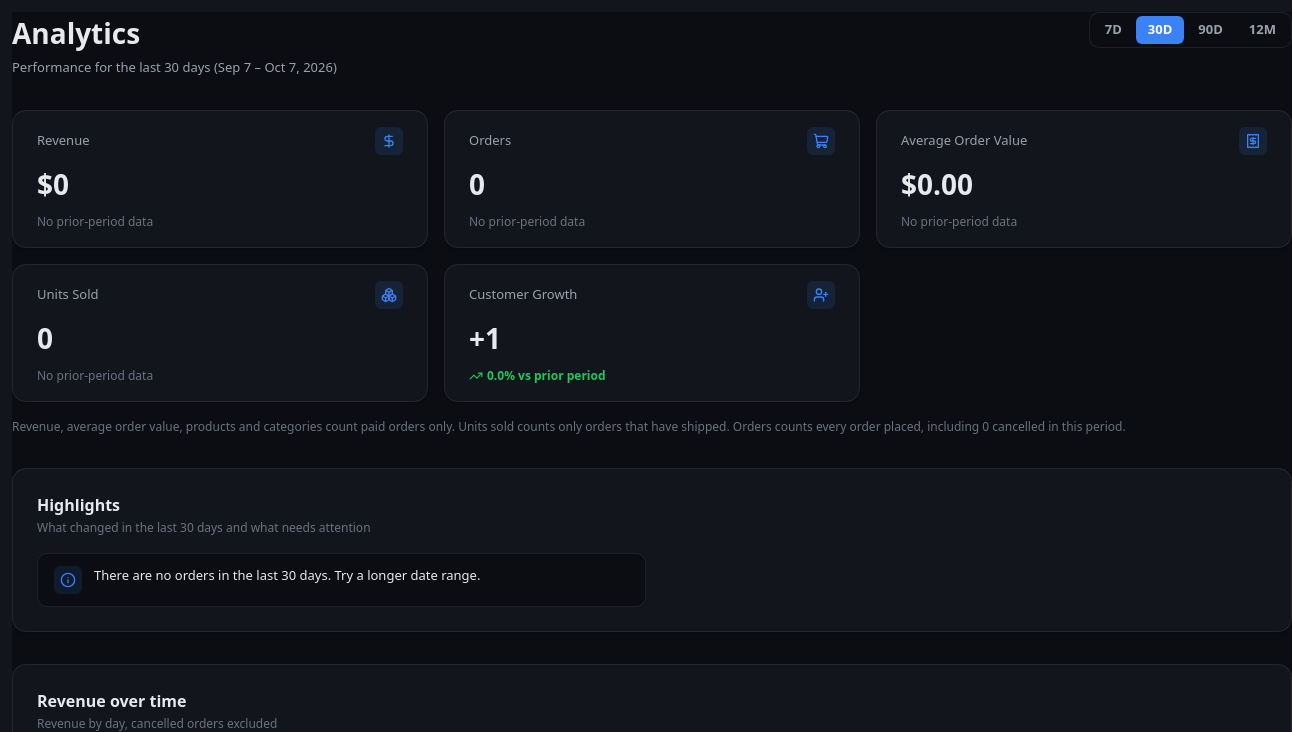
Test: Analytics with no orders › says so in the highlights instead of showing empty statistics
This screenshot has width=1292, height=732.
Expected: the text "There are no orders in the last 30 days. Try a longer date range." is shown, [94,566,480,585]
Click the button "12M" at x=1262, y=30, box [1237,16,1288,44]
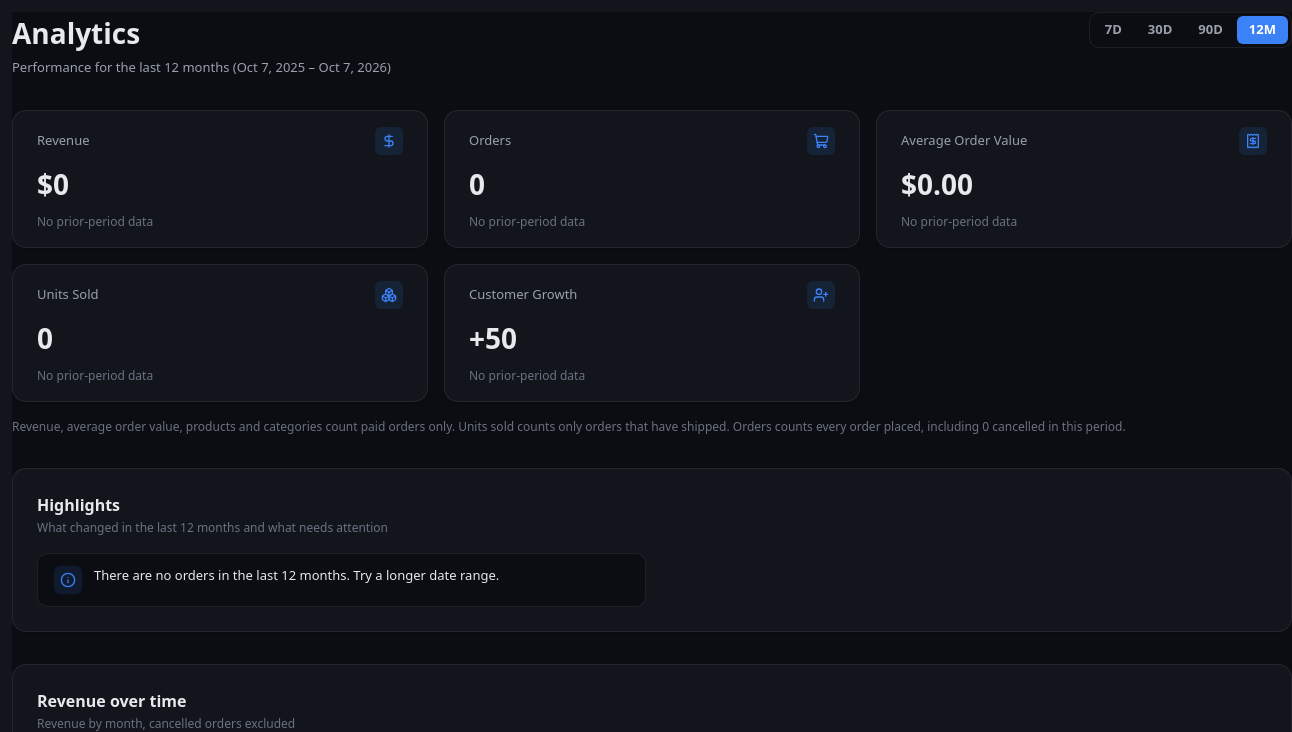
Expected: the text "There are no orders in the last 12 months. Try a longer date range." is shown, [94,566,499,585]
